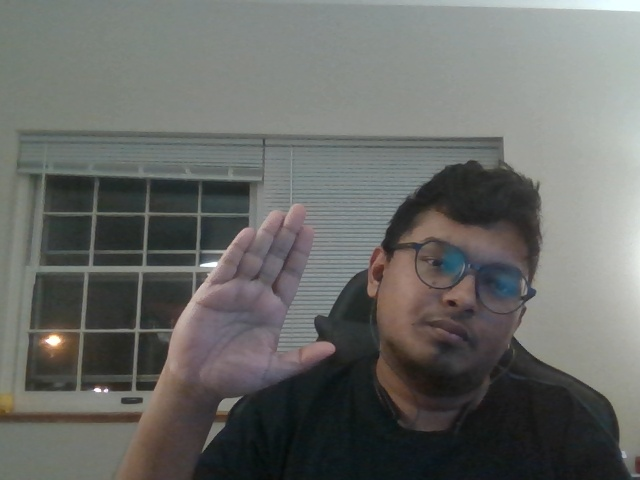hello: (165, 193, 351, 411)
